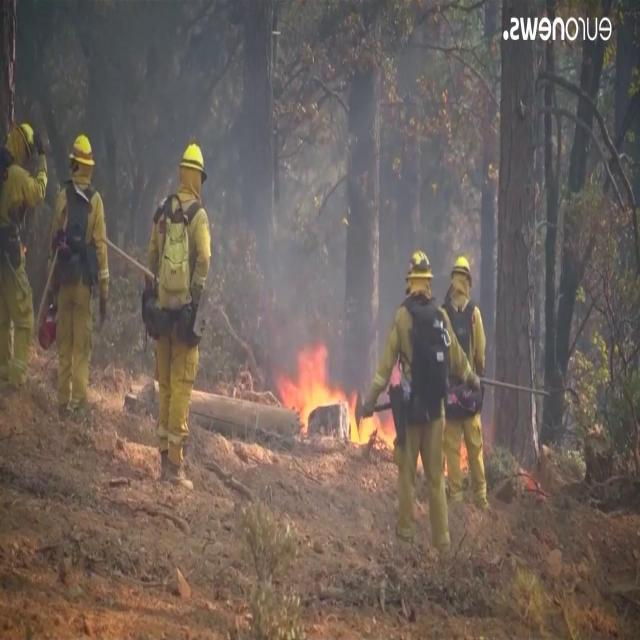Fire: (274, 342, 398, 452), (459, 439, 468, 470)
Smoke: (225, 95, 480, 399)
